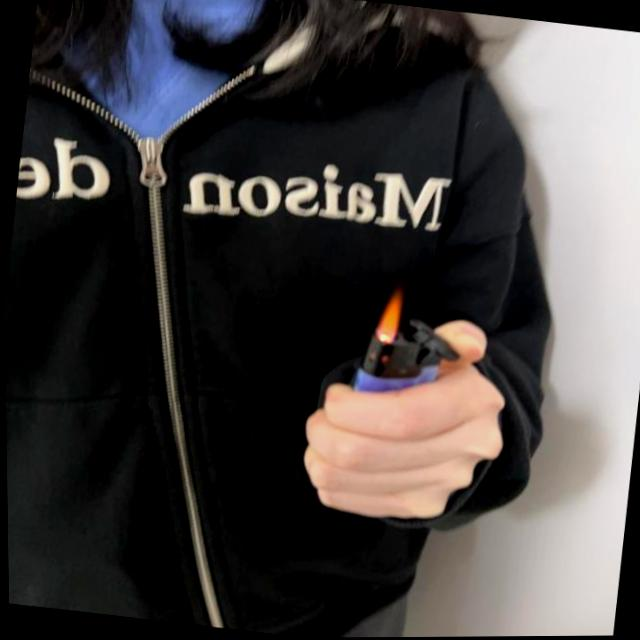helmet: (371, 285, 406, 345)
